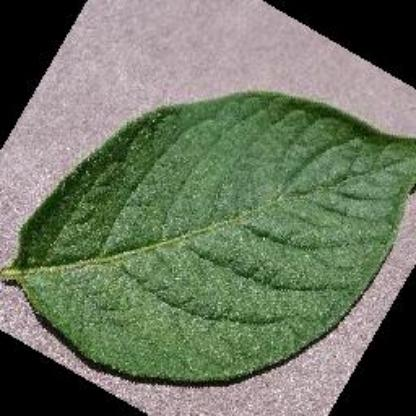Healthy-plant: (0, 85, 416, 387)
